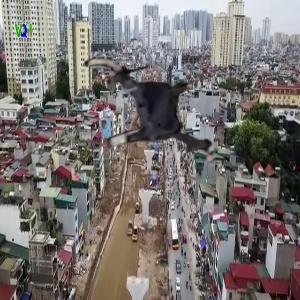drone: (75, 33, 232, 190)
